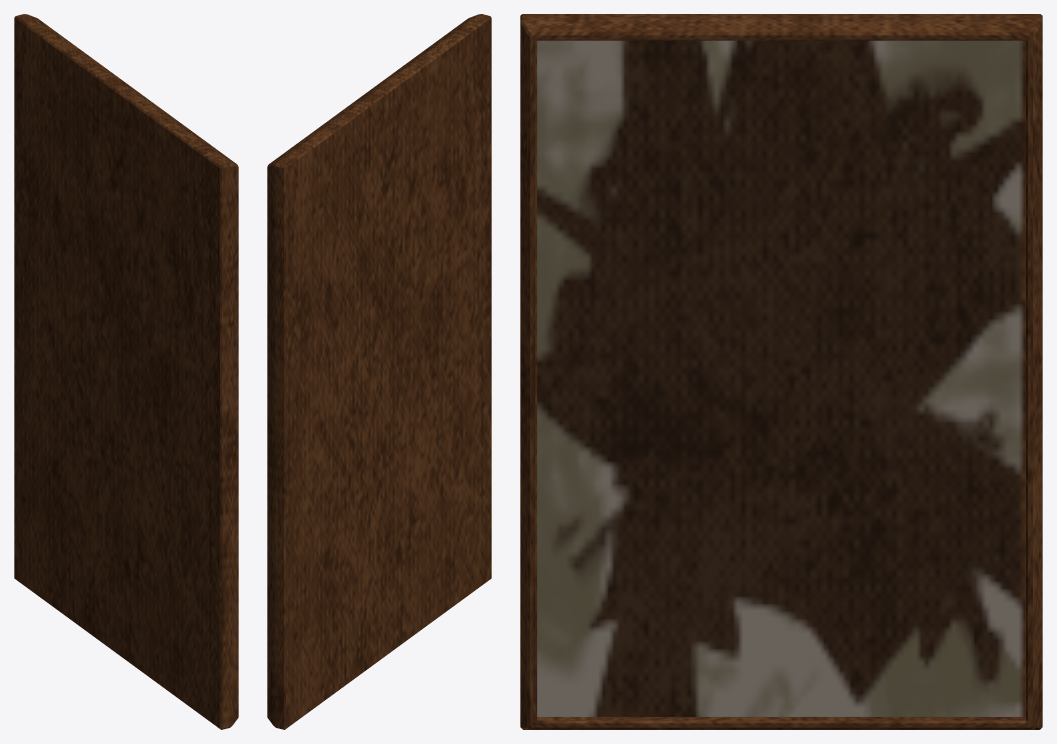
Rendered from painting_frame_big.fbx.
3 renders of one model, left to right at view 1: azimuth 30°, elevation 25°; view 2: azimuth 150°, elevation 25°; view 3: azimuth 270°, elevation 25°, orthographic. The views are drawn at different scales.
Parts seen in each view (by area): view 1: Cube; view 2: Cube; view 3: Cube.
Boxes of the visible parts, x1,y1,x2,y2 form: Cube: (14, 14, 238, 729); Cube: (267, 14, 491, 729); Cube: (520, 14, 1042, 729).
Size of the model in its own units: 24.23 by 600 by 400.
Materials: 1 (1 with a texture image).
